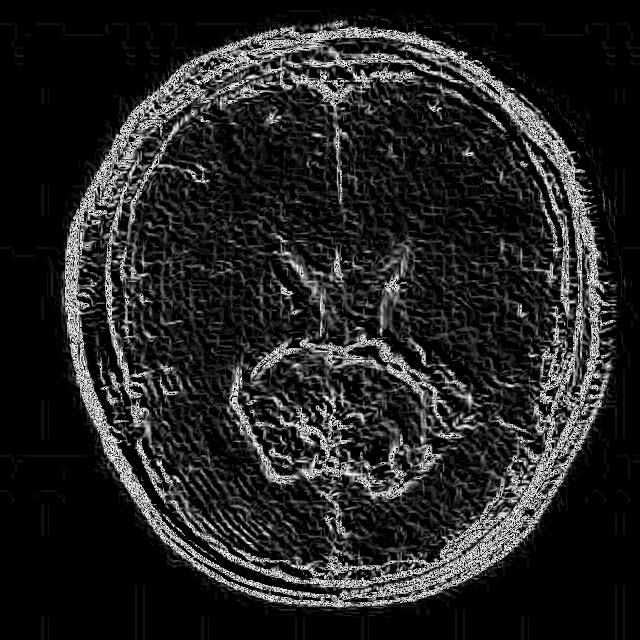Brain-Tumor: (220, 324, 476, 516)
